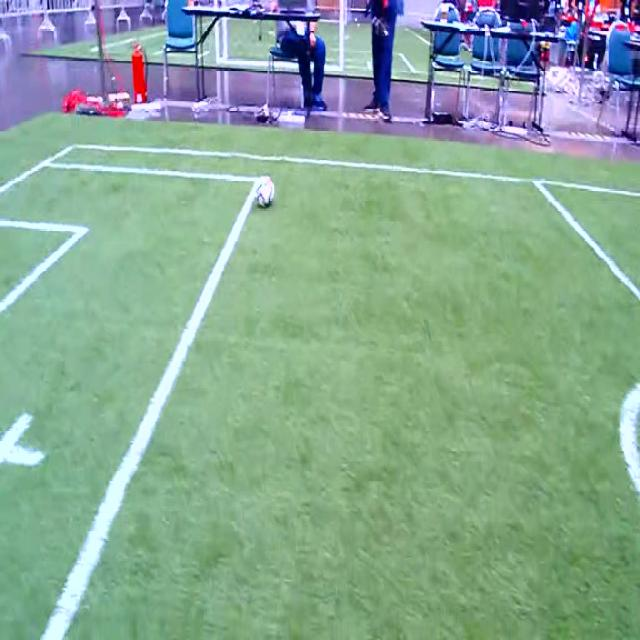ball: (254, 174, 275, 206)
